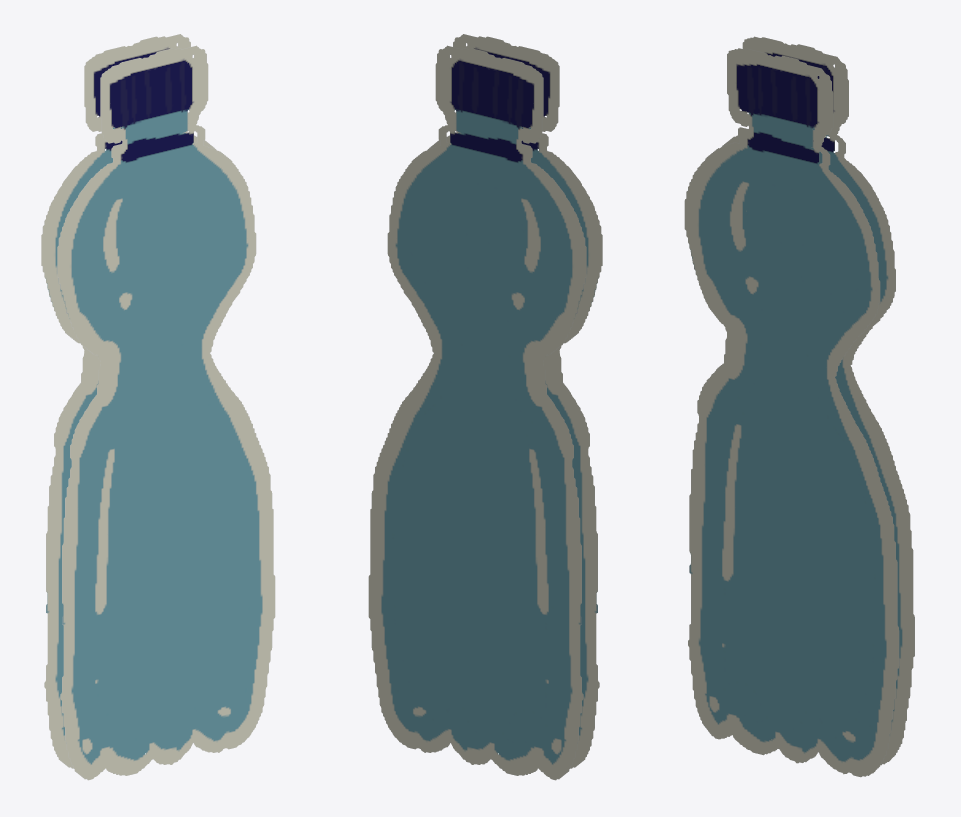
Rendered from Inv-Pfandflasche.fbx.
3 renders of one model, left to right at view 1: azimuth 30°, elevation 25°; view 2: azimuth 150°, elevation 25°; view 3: azimuth 330°, elevation 25°, orthographic.
Visible parts, largest first — view 1: Plane; view 2: Plane; view 3: Plane.
Boxes of the visible parts, x1,y1,x2,y2 form: Plane: (41,34,275,780); Plane: (368,34,602,780); Plane: (684,36,914,777).
Bounding box in the file's own units: 175 × 452 × 17.42.
1 material, 1 textured.
